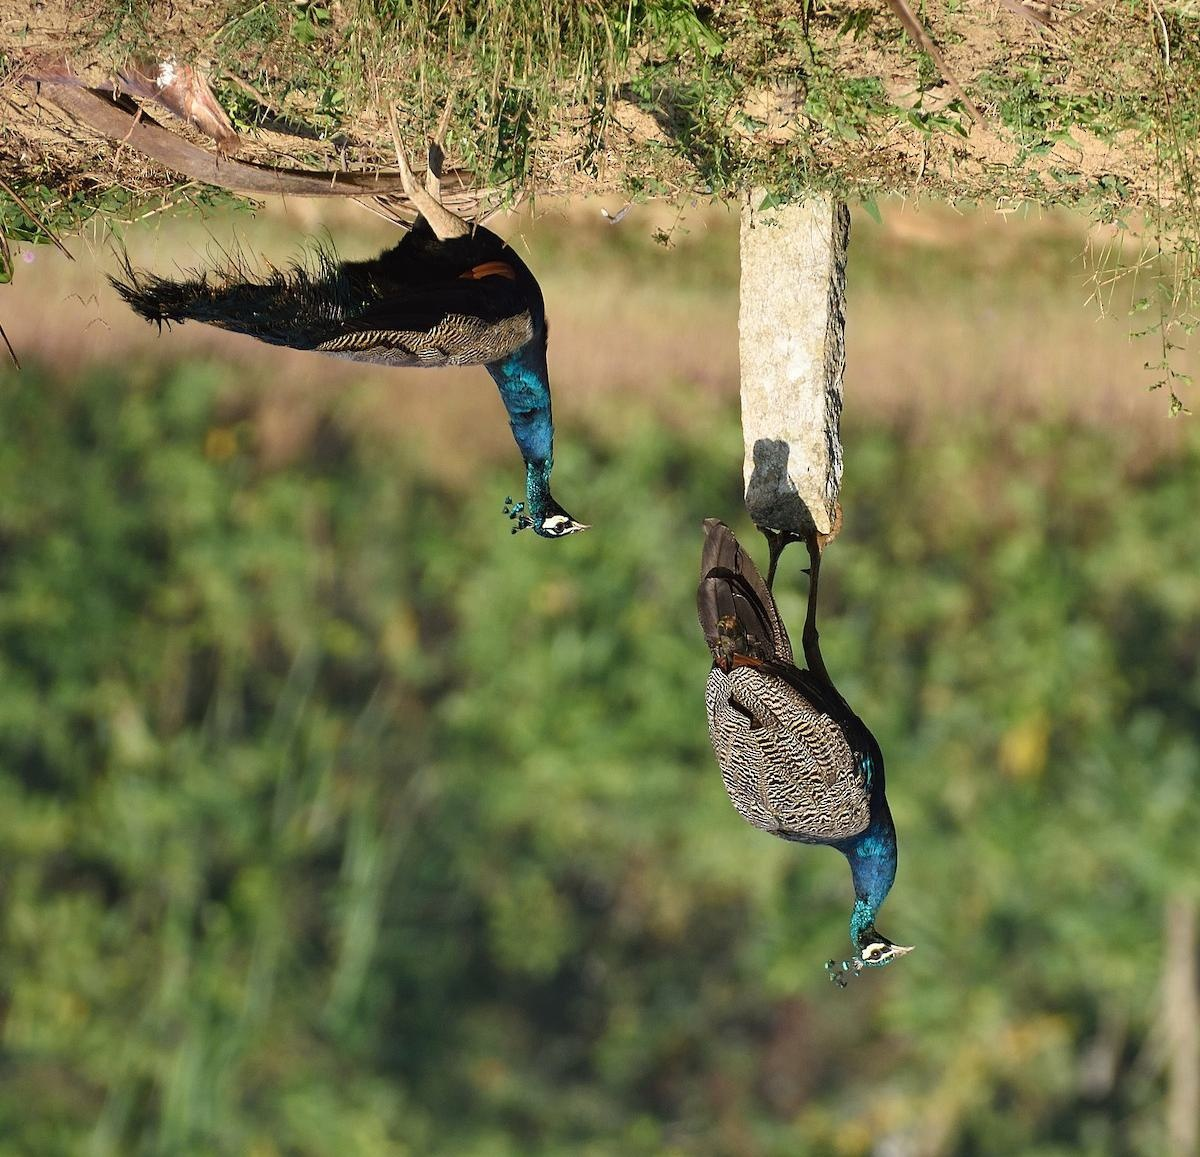peacock: (667, 578, 1024, 1113), (187, 177, 590, 556)
